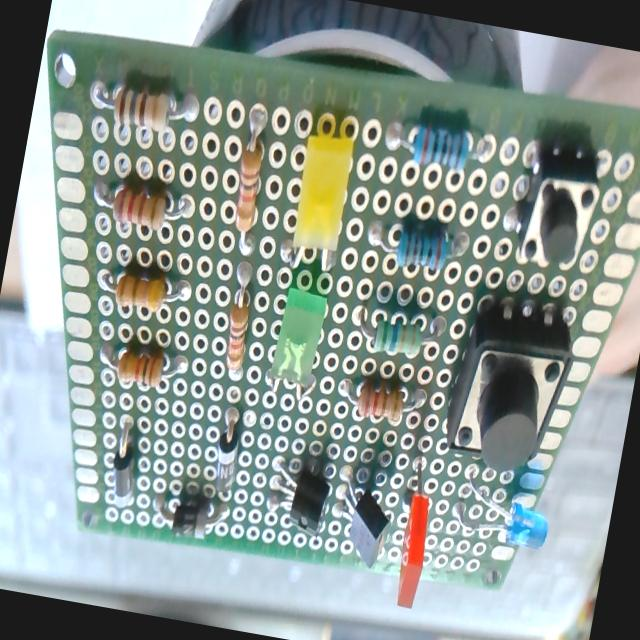diode: (100, 417, 151, 519), (146, 494, 233, 546), (208, 398, 248, 498)
led: (280, 118, 364, 282), (381, 461, 446, 614), (261, 280, 332, 408), (446, 470, 554, 554)
resistor: (215, 100, 281, 262), (80, 66, 208, 142), (364, 198, 476, 278), (328, 358, 432, 436), (374, 112, 492, 180), (342, 290, 447, 362), (82, 170, 196, 234), (206, 262, 262, 392), (91, 339, 195, 398), (91, 261, 193, 315)
switch: (432, 311, 578, 471), (489, 130, 615, 287)
transistor: (328, 464, 401, 584), (260, 459, 339, 553)
